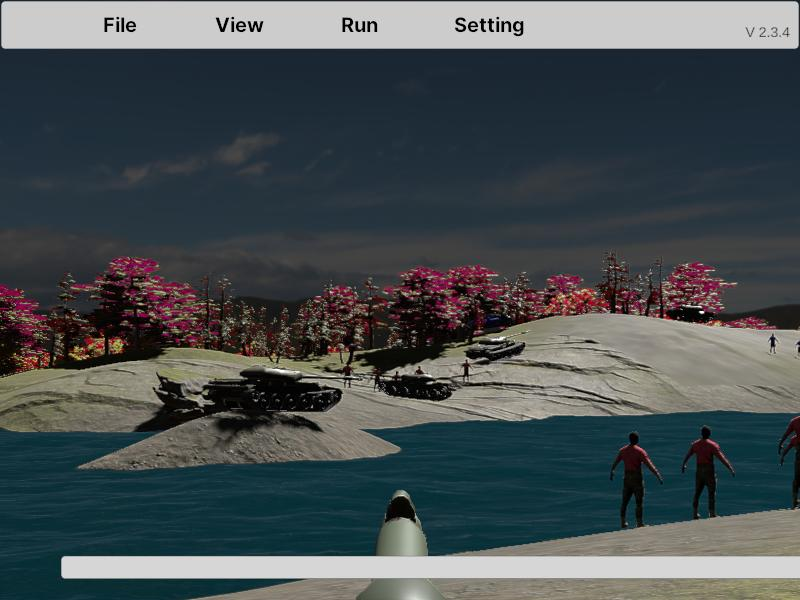Human: (609, 430, 663, 538), (681, 425, 735, 532), (780, 396, 800, 515)
Tank: (203, 365, 367, 412), (350, 370, 462, 401), (462, 329, 529, 360), (463, 329, 529, 360)
